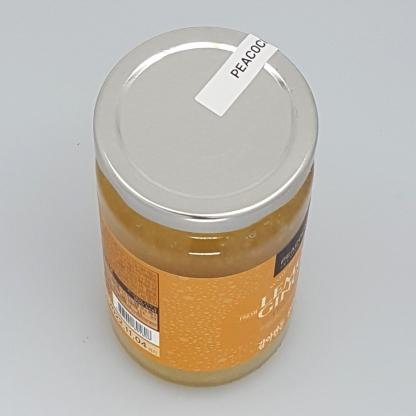--------------400G: (92, 25, 319, 388)
